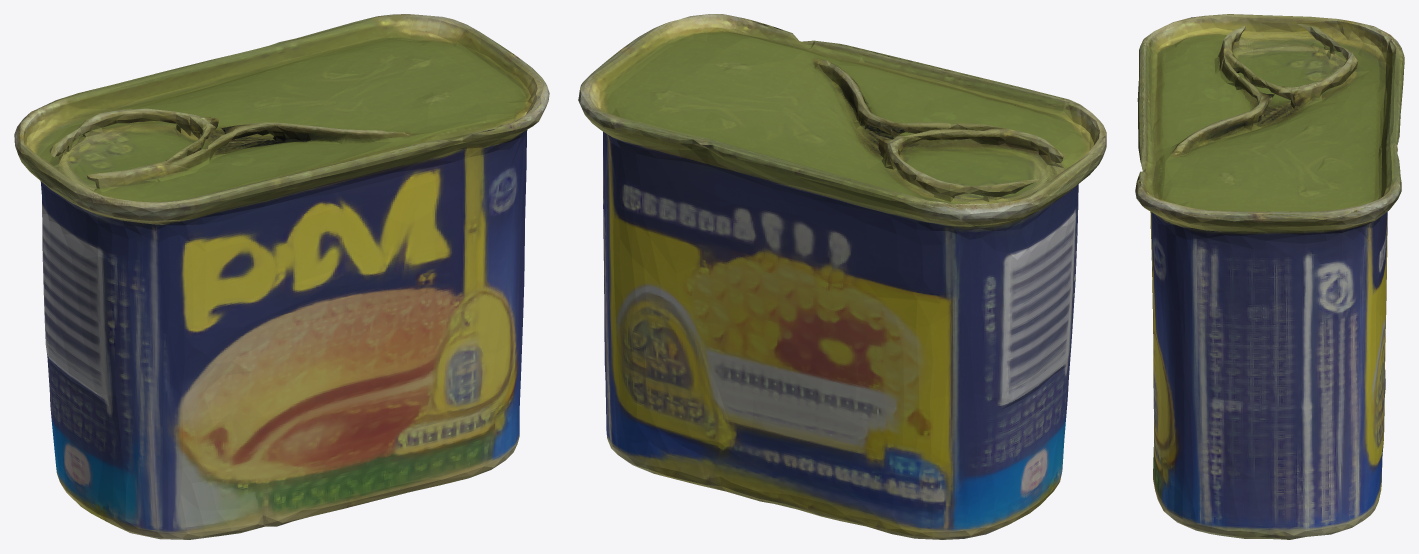
Rendered from sample.glb.
3 views of the same model, side by side, from view 1: azimuth 30°, elevation 25°; view 2: azimuth 150°, elevation 25°; view 3: azimuth 270°, elevation 25° (orthographic). The views are drawn at different scales.
Visible parts, largest first — view 1: world; view 2: world; view 3: world.
Boxes of the visible parts, x1=… form: world: x1=14, y1=14, x2=549, y2=539; world: x1=578, y1=14, x2=1106, y2=539; world: x1=1135, y1=14, x2=1404, y2=539.
Size of the model in its own units: 0.4305 by 0.3225 by 0.2339.
1 material, 1 textured.
